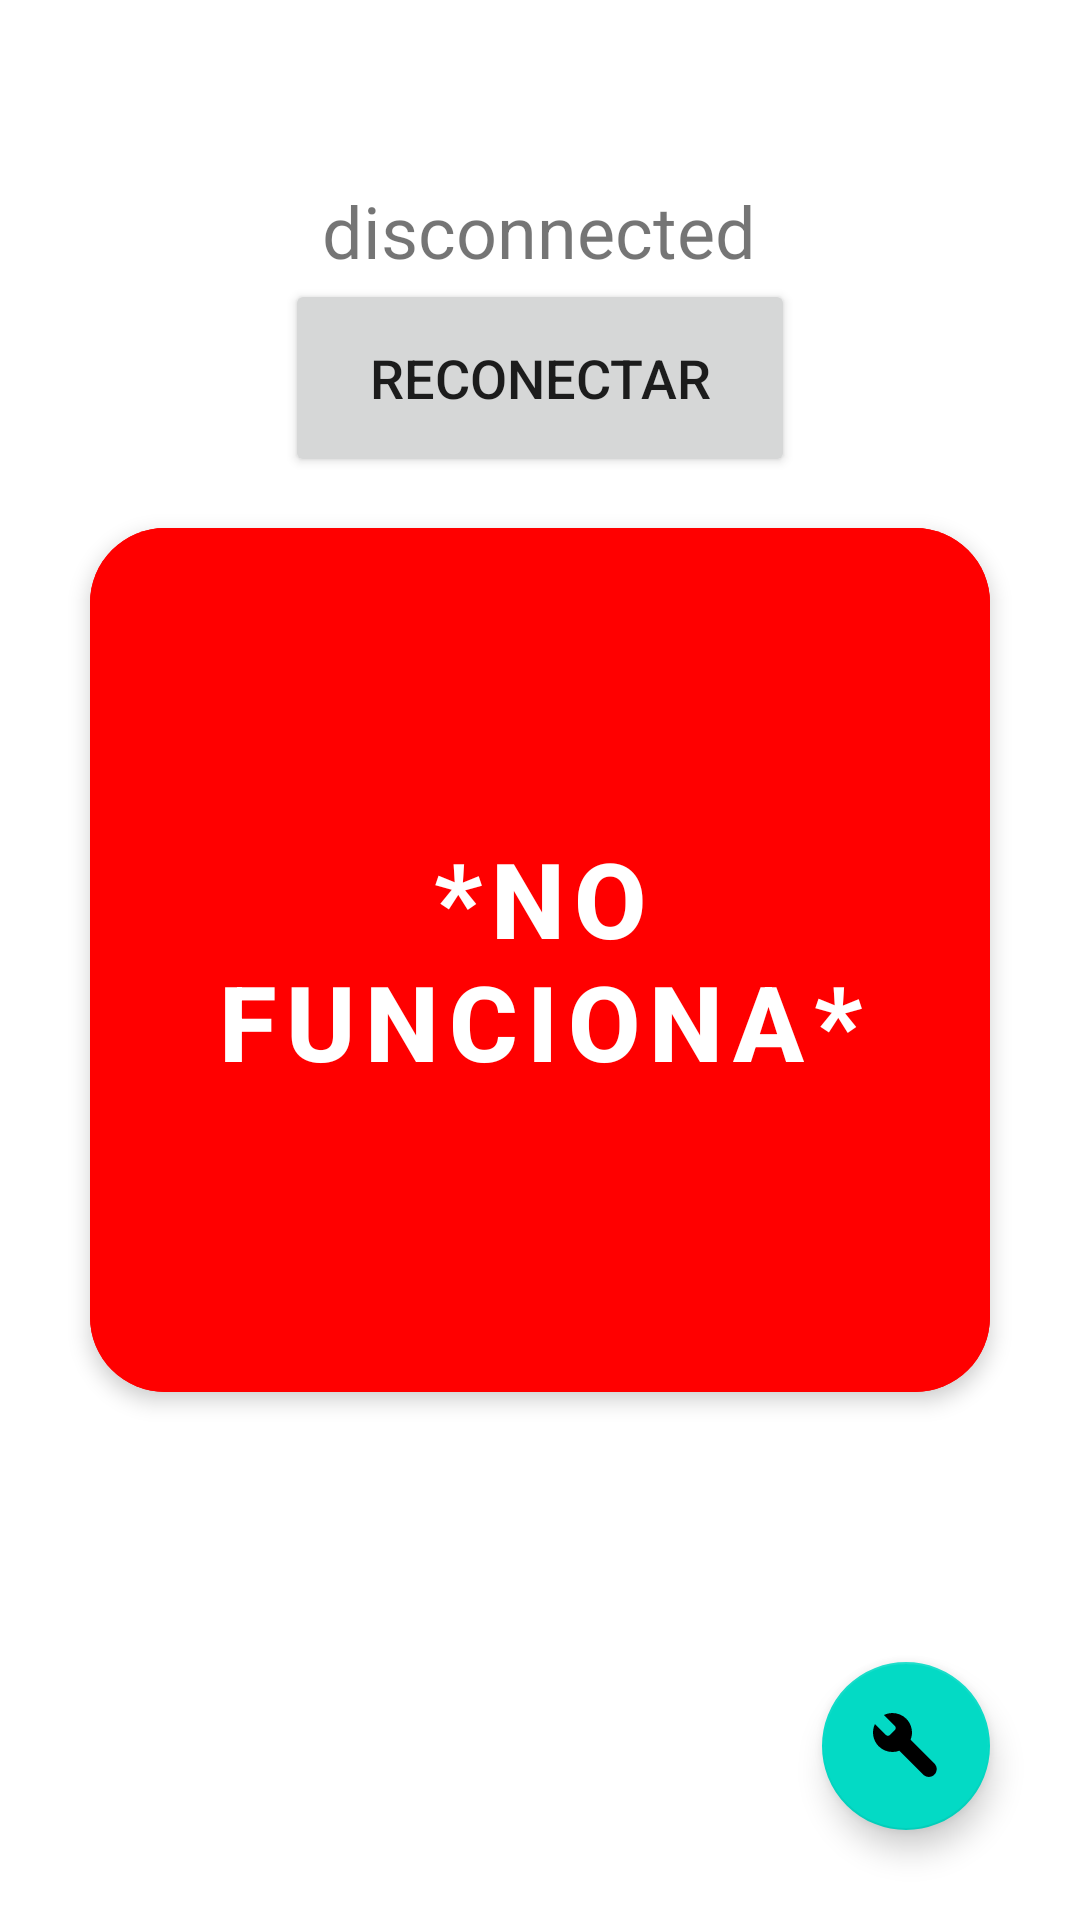

Where icons sit on this 1080px×1920px app screen, as [x1, y1, x2, y2]:
AJUSTES: [822, 1662, 990, 1830]
